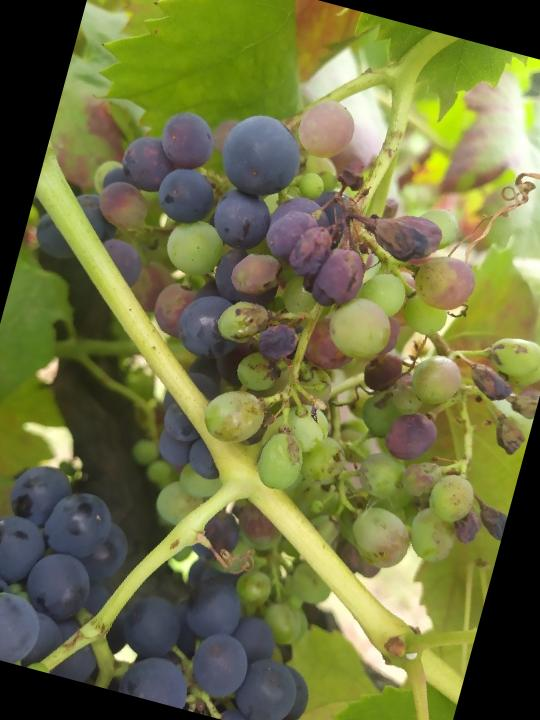grape: (0, 31, 540, 694)
